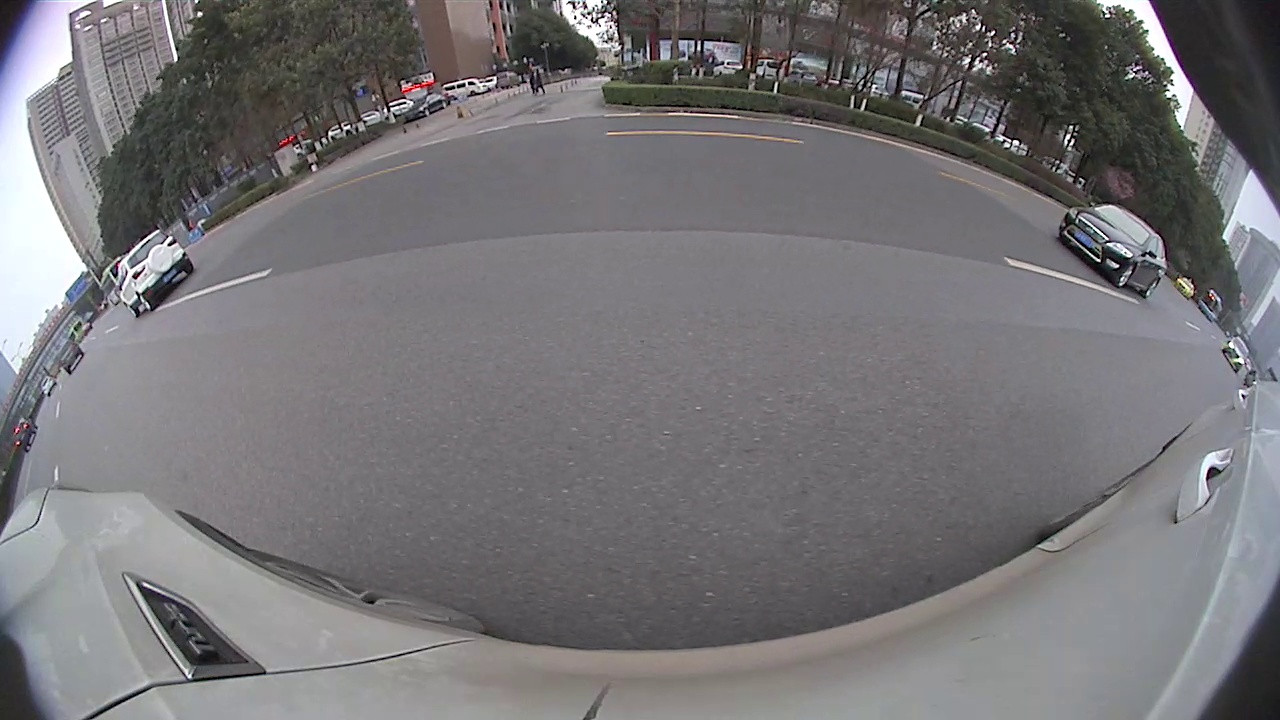bus: (757, 0, 1279, 439)
car: (438, 150, 545, 216), (582, 144, 653, 195), (699, 153, 754, 191), (543, 152, 582, 188), (663, 158, 695, 181)
front: (760, 173, 789, 218)
rear: (951, 220, 1041, 325)
